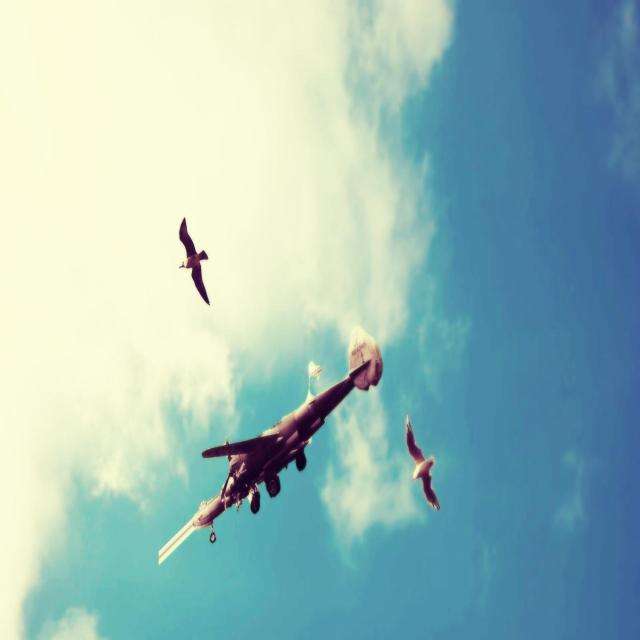airplane: (158, 325, 383, 565)
